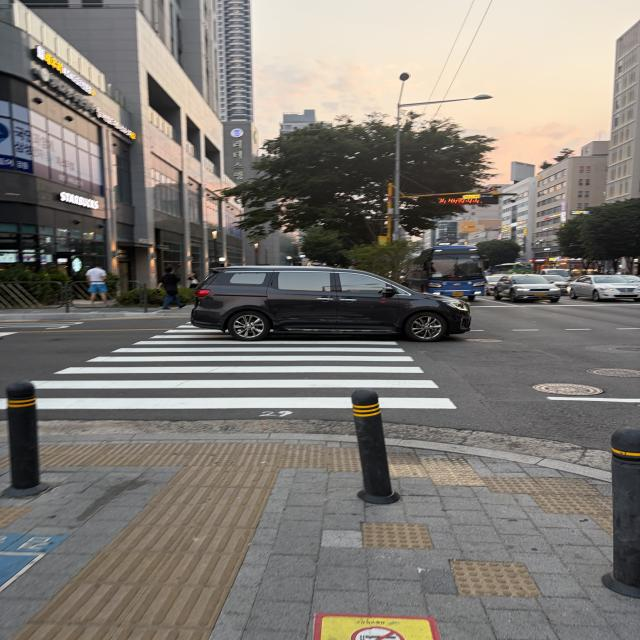car: (171, 255, 484, 352), (394, 240, 500, 303), (490, 272, 568, 312), (561, 269, 640, 307)
